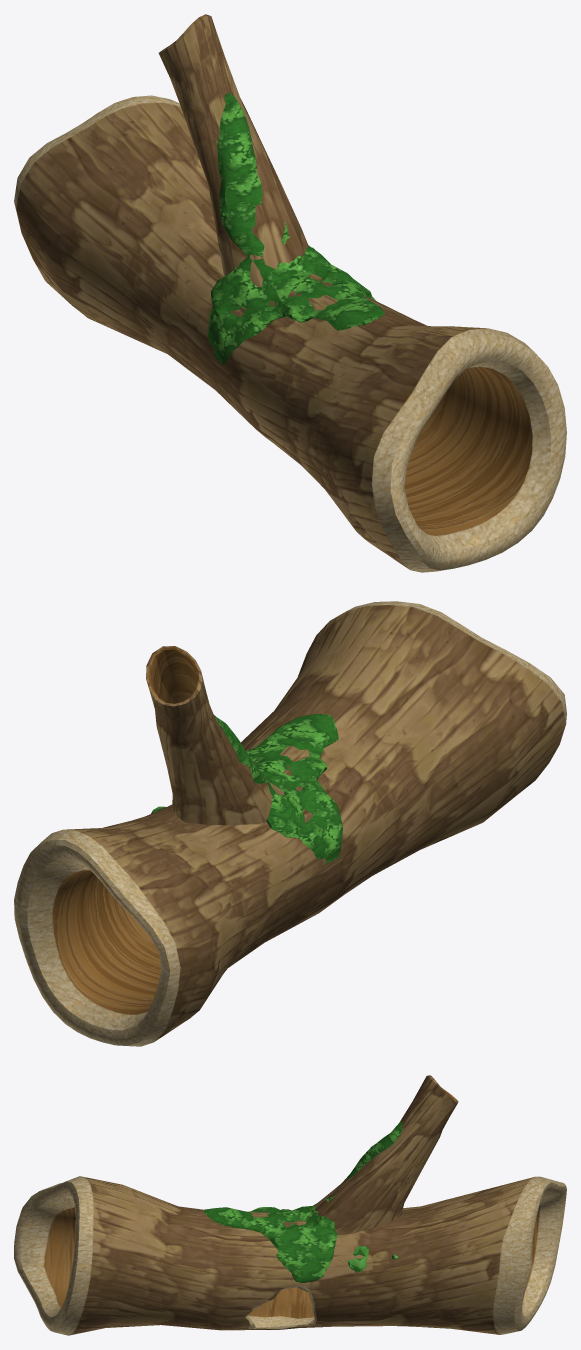
Rendered from Trunk.fbx.
3 views of the same model, one above another, from view 1: azimuth 30°, elevation 25°; view 2: azimuth 150°, elevation 25°; view 3: azimuth 270°, elevation 25° (orthographic). The views are drawn at different scales.
Parts seen in each view (by area): view 1: Trunk, Moss, Branch; view 2: Trunk, Branch, Moss; view 3: Trunk, Branch, Moss.
Boxes of the visible parts, x1,y1,x2,y2 form: Trunk: [14, 95, 566, 572]; Moss: [208, 92, 384, 364]; Branch: [158, 14, 308, 287]; Trunk: [14, 601, 566, 1046]; Branch: [146, 646, 283, 825]; Moss: [151, 714, 342, 863]; Trunk: [14, 1176, 566, 1335]; Branch: [313, 1075, 458, 1235]; Moss: [203, 1121, 402, 1282].
Bounding box in the file's own units: 564 × 853 × 1730.
